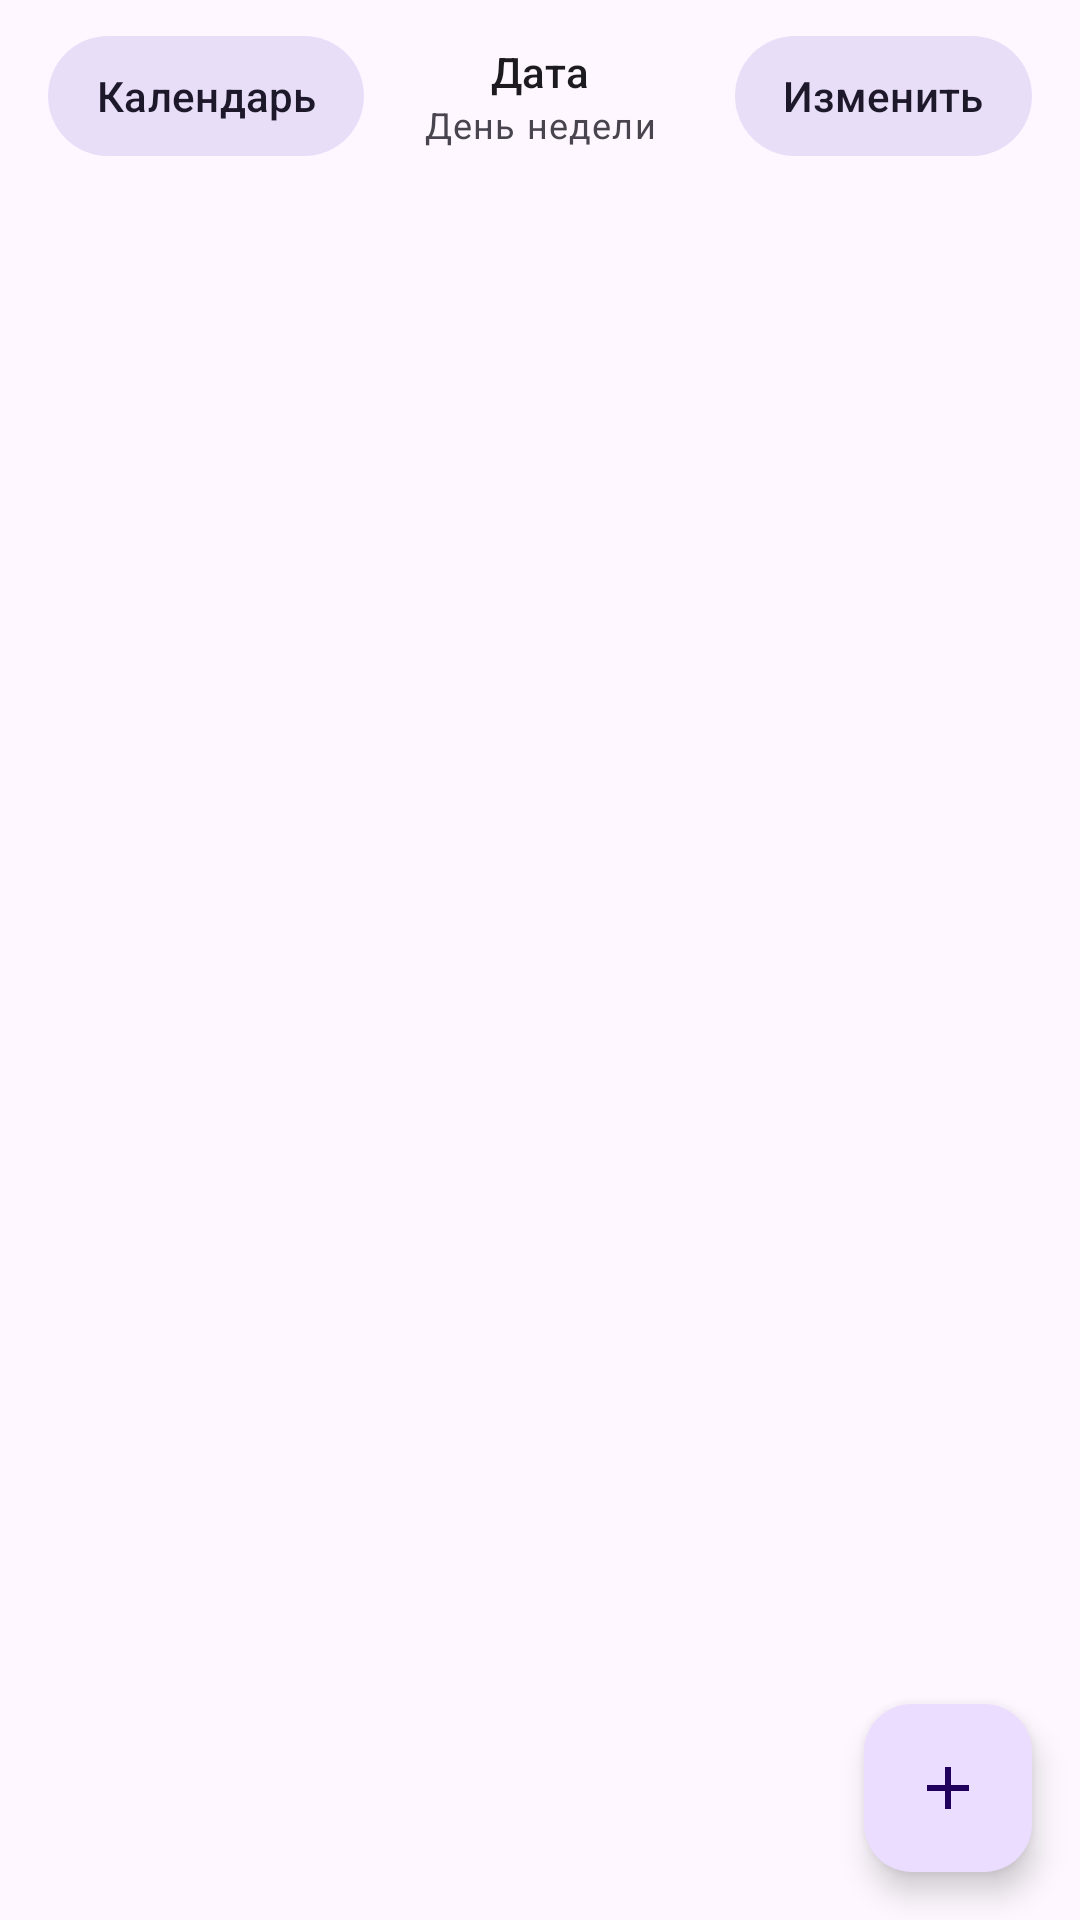

Screen size 1080x1920. Icon name, then its box in pixels as (x1, y1, x2, y2):
Добавить задачу: (864, 1704, 1032, 1872)
